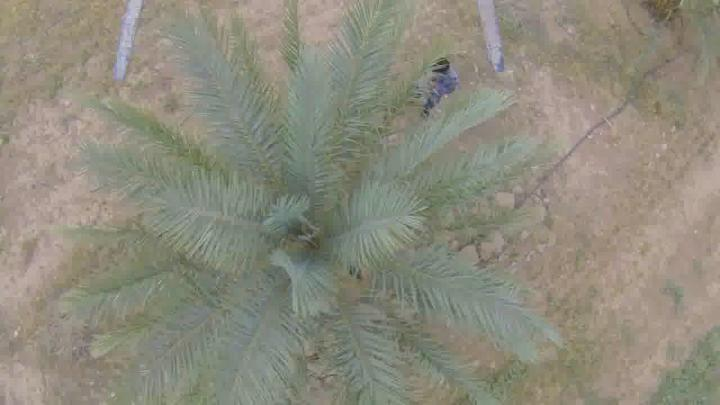Date-Palm-Crown: (181, 124, 437, 354)
